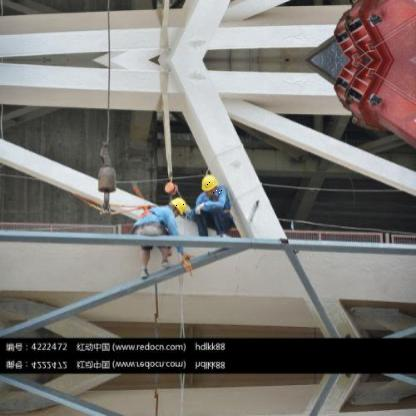safetyhelmet: (202, 170, 223, 194), (171, 196, 187, 216)
